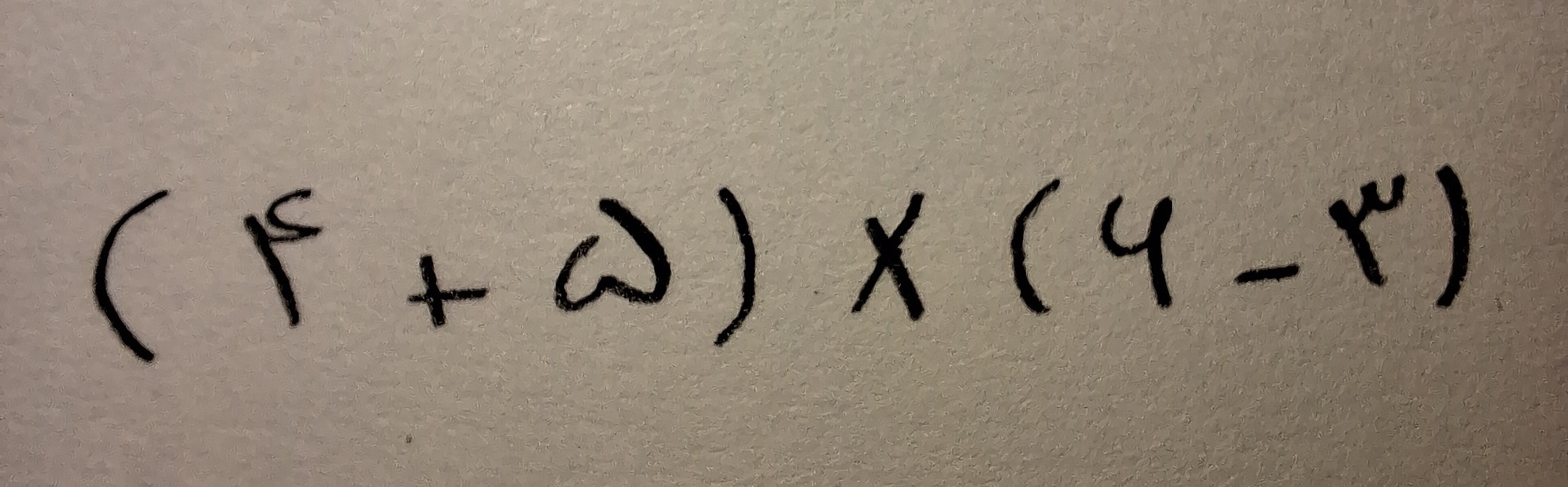character: (94, 186, 172, 360), (553, 197, 670, 310), (245, 187, 320, 326), (854, 190, 928, 321), (1329, 173, 1409, 287), (1102, 194, 1179, 312), (713, 187, 758, 351), (1012, 176, 1061, 314), (408, 253, 485, 331), (1432, 163, 1472, 310), (1234, 262, 1302, 282)
